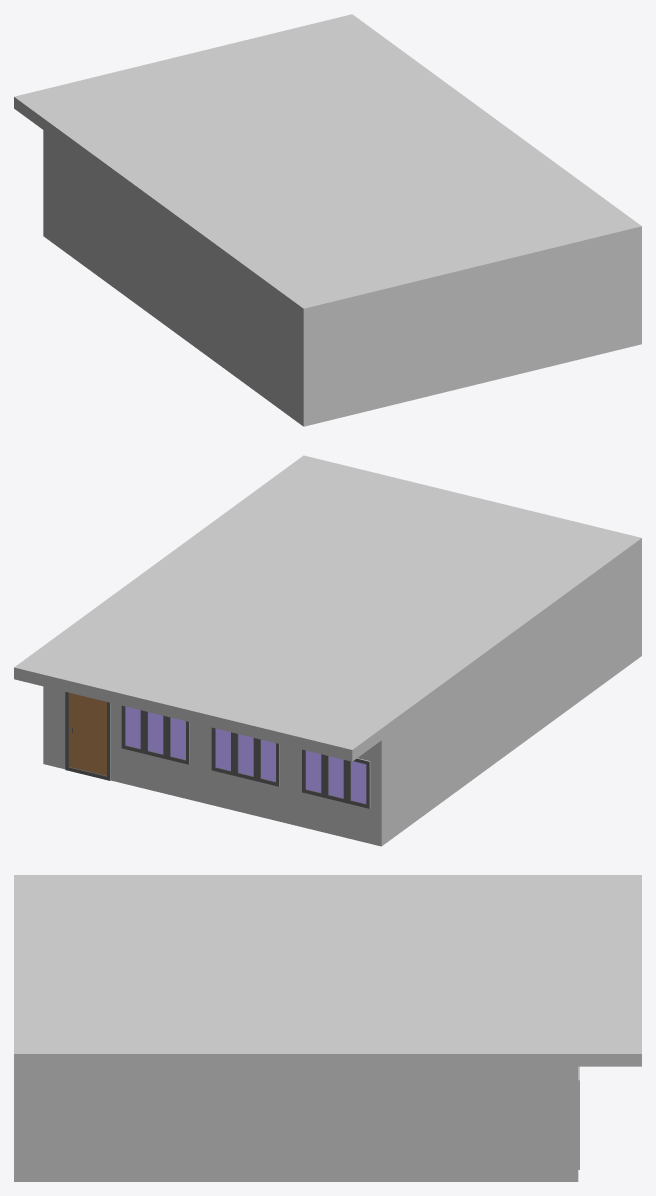
File: casa7.fbx
3 views of the same model, one above another, from view 1: azimuth 30°, elevation 25°; view 2: azimuth 150°, elevation 25°; view 3: azimuth 270°, elevation 25° (orthographic). The views are drawn at different scales.
Parts seen in each view (by area): view 1: Cubo_1; view 2: Cubo_1; view 3: Cubo_1.
Part boxes in pixels (box(x1,y1,x2,y2)): Cubo_1: box(14, 14, 641, 426); Cubo_1: box(14, 455, 641, 846); Cubo_1: box(14, 875, 641, 1181).
Size of the model in its own units: 300 by 100 by 445.
